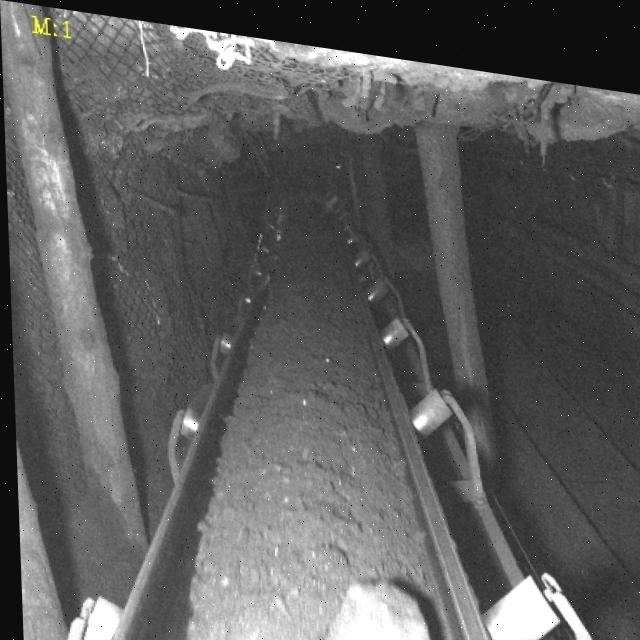large_sized_coal: (313, 559, 439, 640)
